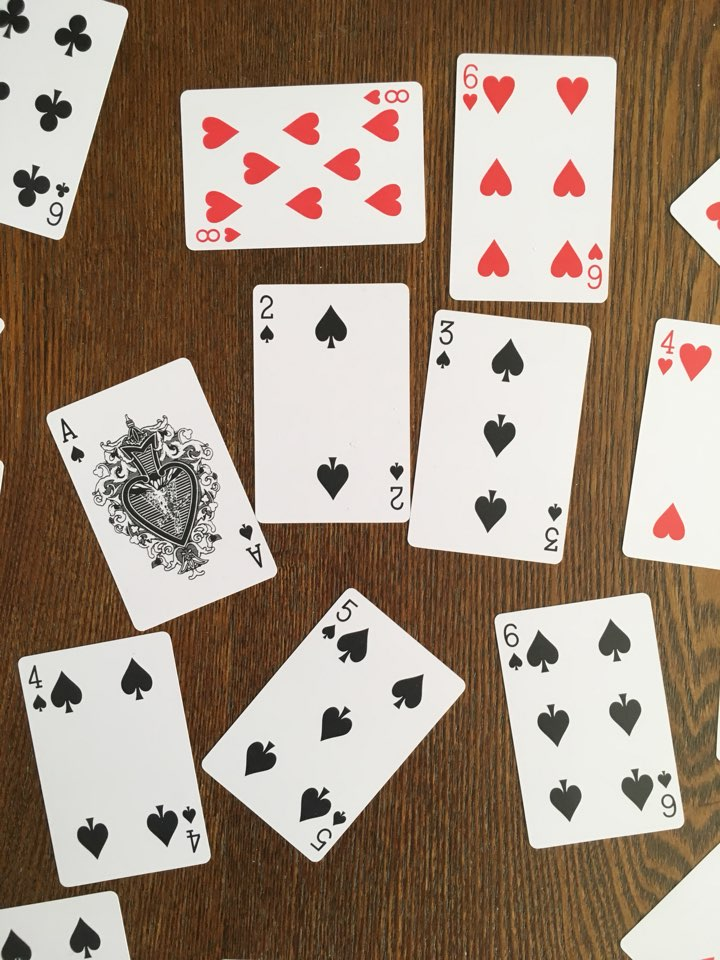ace: (40, 347, 289, 636)
